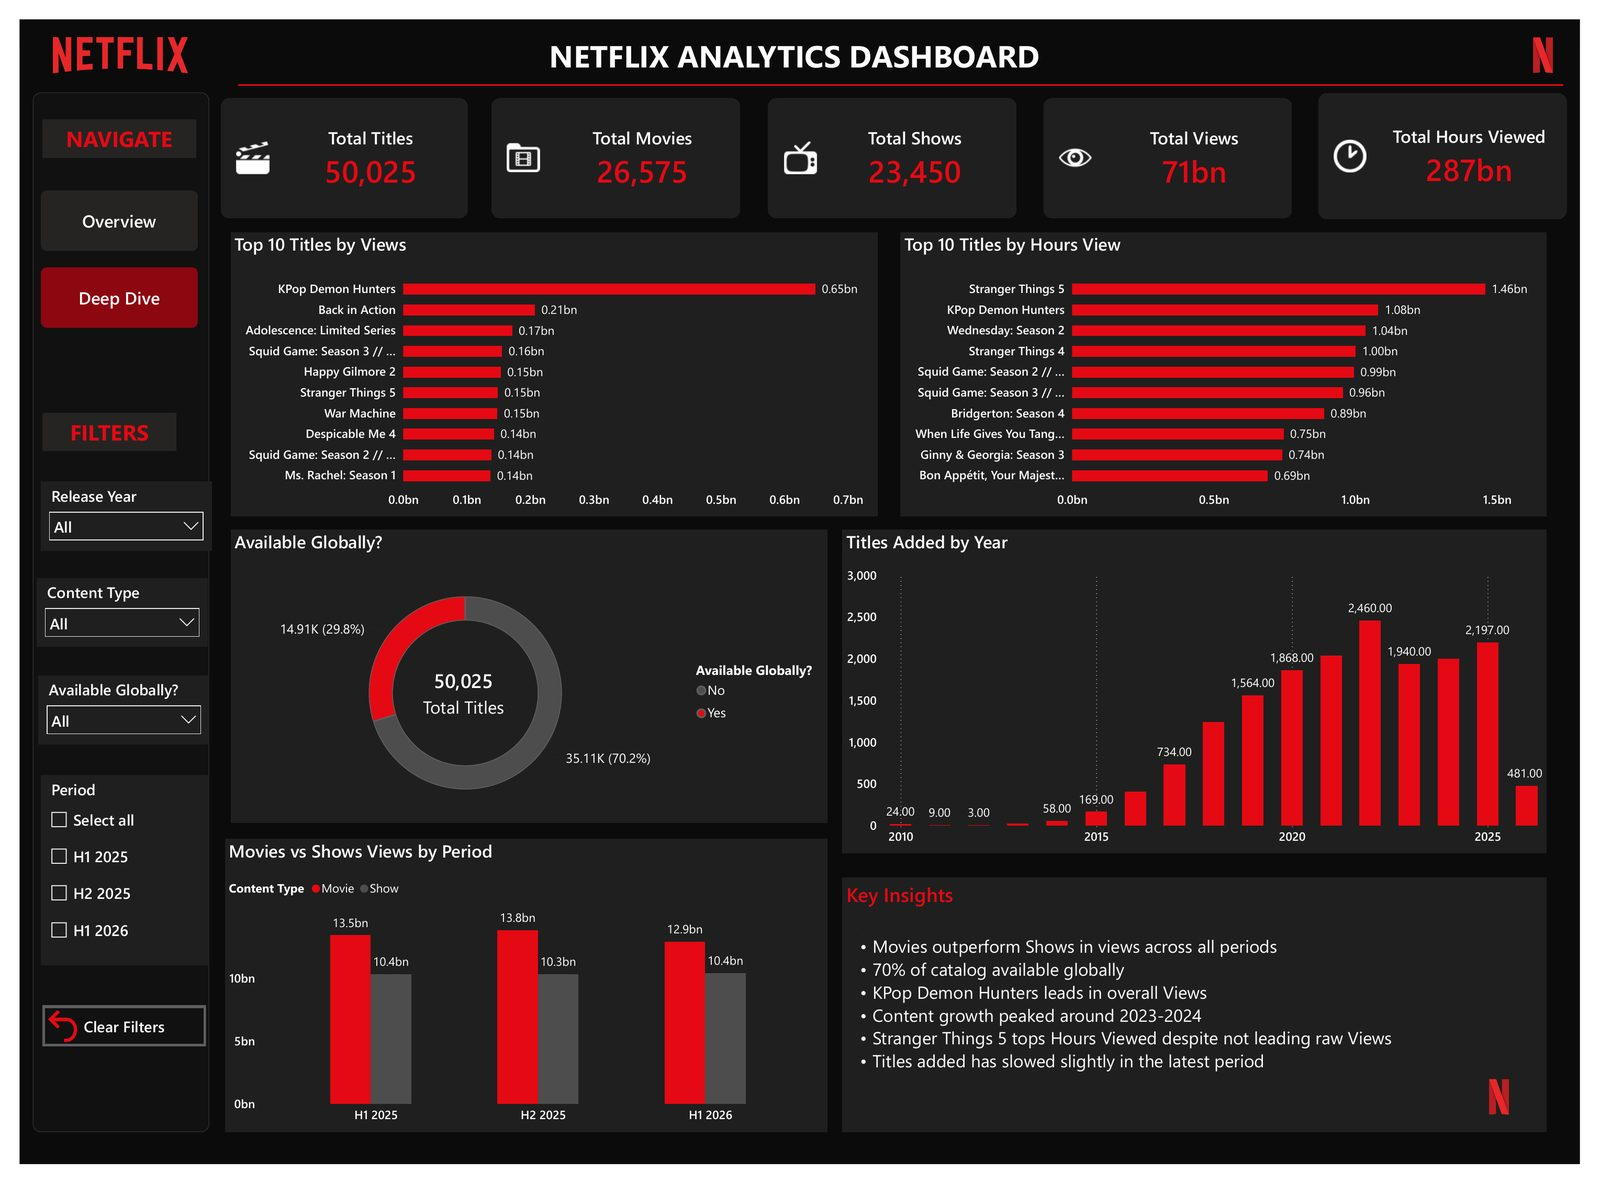

The page's visual inventory and layout, read from the dashboard file:
{"tool":"powerbi","page":{"name":"Deep Dive","canvas":[1908,1400],"ordinal":1},"visuals":[{"type":"shape","box":[16.4,89.1,215.8,1271.5],"z":0},{"type":"image","box":[18.1,0,209.9,86.9],"z":1000},{"type":"image","box":[1806,0,114,86.9],"z":2000},{"type":"textbox","box":[642.8,14.1,624.3,72.4],"z":3000},{"type":"shape","box":[266.7,72.9,1621.5,14.5],"z":4000},{"type":"cardVisual","fields":{"Data":["_Measures.Total Titles"]},"box":[229.2,79.2,335.5,180.6],"z":5000},{"type":"cardVisual","fields":{"Data":["_Measures.Total TV Shows"]},"box":[897.9,79.2,337.8,180.6],"z":6000},{"type":"cardVisual","fields":{"Data":["_Measures.Total Views"]},"box":[1235.4,79.2,337.8,180.6],"z":7000},{"type":"cardVisual","fields":{"Data":["_Measures.Total Hours Viewed"]},"box":[1570.8,72.9,337.8,187.7],"z":8000},{"type":"cardVisual","fields":{"Data":["_Measures.Total Movies"]},"box":[560.4,79.2,337.8,180.6],"z":9000},{"type":"slicer","fields":{"Values":["Netflix_Combined.Release Year"]},"box":[25.8,565.4,208.8,84.5],"z":10000},{"type":"slicer","fields":{"Values":["Netflix_Combined.Available Globally?"]},"box":[23.5,802.3,208.8,84.5],"z":11000},{"type":"slicer","fields":{"Values":["Netflix_Combined.Period"]},"box":[25.8,924.3,206.4,232.2],"z":12000},{"type":"slicer","fields":{"Values":["Netflix_Combined.Content Type"]},"box":[21.1,682.6,208.8,84.5],"z":13000},{"type":"actionButton","box":[28.2,1205.8,200,50],"z":14000},{"type":"textbox","box":[28.2,480.9,164.2,46.9],"z":15000},{"type":"textbox","box":[28.2,122,187.7,46.9],"z":16000},{"type":"clusteredBarChart","title":"Top 10 Titles by Views","fields":{"Y":["Sum(Netflix_Combined.Views)"],"Category":["Netflix_Combined.Title"]},"box":[258,260.4,790.6,347.2],"z":17000},{"type":"clusteredBarChart","title":"Top 10 Titles by Hours View","fields":{"Category":["Netflix_Combined.Title"],"Y":["Sum(Netflix_Combined.Hours Viewed)"]},"box":[1076.7,260.4,790.6,347.2],"z":18000},{"type":"donutChart","title":"Available Globally?","fields":{"Y":["_Measures.Total Titles"],"Category":["Netflix_Combined.Available Globally?"]},"box":[258,624,729.6,358.9],"z":19000},{"type":"clusteredColumnChart","title":"Titles Added by Year","fields":{"Category":["Netflix_Combined.Release Year"],"Y":["_Measures.Total Titles"]},"box":[1006.4,624,860.9,396.4],"z":20000},{"type":"cardVisual","fields":{"Data":["_Measures.Total Titles"]},"box":[462.1,750.7,161.9,143.1],"z":21000},{"type":"clusteredColumnChart","title":"Movies vs Shows Views by Period","fields":{"Category":["Netflix_Combined.Period"],"Series":["Netflix_Combined.Content Type"],"Y":["Sum(Netflix_Combined.Views)"]},"box":[251,1001.7,736.6,358.9],"z":22000},{"type":"pageNavigator","box":[25.8,208.8,192.4,168.9],"z":23000},{"type":"textbox","box":[1006.4,1048.6,860.9,312],"z":24000},{"type":"image","box":[1752.4,1273.8,114,86.9],"z":25000}]}

Visuals, with their boxes in screenshot pixels (x1, y1, x2, y2), scaled from the page's 1908x1400 canvas onto the 1600x1184 screenshot:
shape: x1=14 y1=75 x2=195 y2=1151
image: x1=15 y1=0 x2=191 y2=73
image: x1=1514 y1=0 x2=1599 y2=73
textbox: x1=539 y1=12 x2=1063 y2=73
shape: x1=224 y1=62 x2=1583 y2=74
cardVisual - _Measures.Total Titles: x1=192 y1=67 x2=474 y2=220
cardVisual - _Measures.Total TV Shows: x1=753 y1=67 x2=1036 y2=220
cardVisual - _Measures.Total Views: x1=1036 y1=67 x2=1319 y2=220
cardVisual - _Measures.Total Hours Viewed: x1=1317 y1=62 x2=1599 y2=220
cardVisual - _Measures.Total Movies: x1=470 y1=67 x2=753 y2=220
slicer - Netflix_Combined.Release Year: x1=22 y1=478 x2=197 y2=550
slicer - Netflix_Combined.Available Globally?: x1=20 y1=679 x2=195 y2=750
slicer - Netflix_Combined.Period: x1=22 y1=782 x2=195 y2=978
slicer - Netflix_Combined.Content Type: x1=18 y1=577 x2=193 y2=649
actionButton: x1=24 y1=1020 x2=191 y2=1062
textbox: x1=24 y1=407 x2=161 y2=446
textbox: x1=24 y1=103 x2=181 y2=143
"Top 10 Titles by Views" clusteredBarChart: x1=216 y1=220 x2=879 y2=514
"Top 10 Titles by Hours View" clusteredBarChart: x1=903 y1=220 x2=1566 y2=514
"Available Globally?" donutChart: x1=216 y1=528 x2=828 y2=831
"Titles Added by Year" clusteredColumnChart: x1=844 y1=528 x2=1566 y2=863
cardVisual - _Measures.Total Titles: x1=388 y1=635 x2=523 y2=756
"Movies vs Shows Views by Period" clusteredColumnChart: x1=210 y1=847 x2=828 y2=1151
pageNavigator: x1=22 y1=177 x2=183 y2=319
textbox: x1=844 y1=887 x2=1566 y2=1151
image: x1=1470 y1=1077 x2=1565 y2=1151
